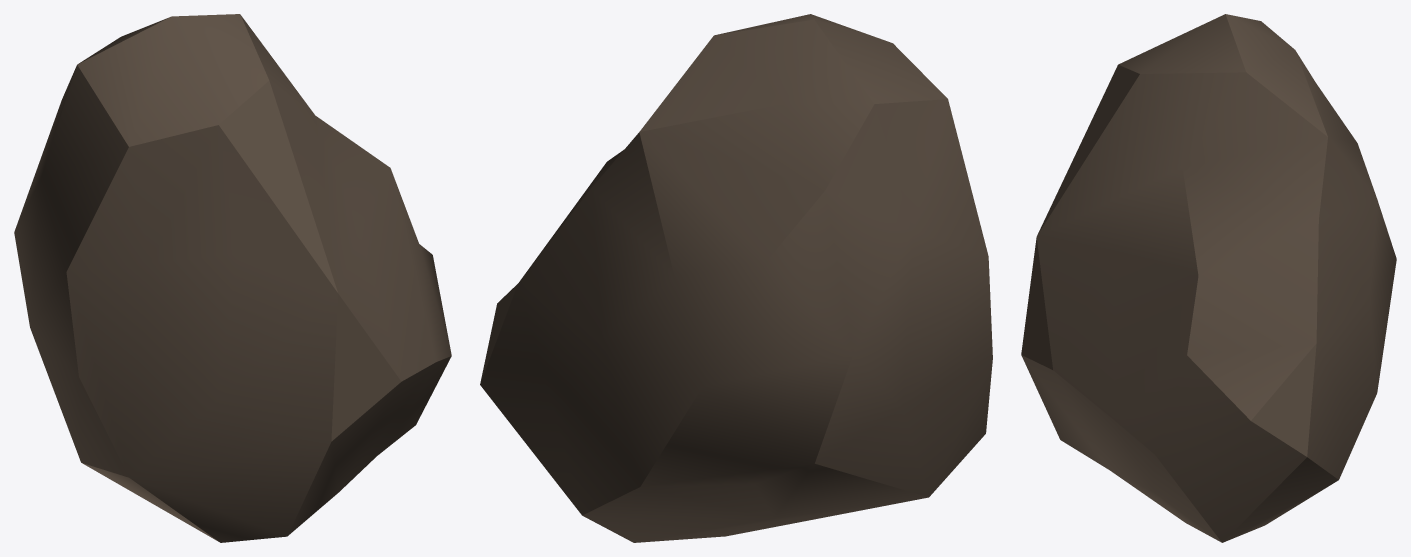
Rendered from rock_004.fbx.
3 views of the same model, side by side, from view 1: azimuth 30°, elevation 25°; view 2: azimuth 150°, elevation 25°; view 3: azimuth 270°, elevation 25° (orthographic). The views are drawn at different scales.
Visible parts, largest first — view 1: rock.004; view 2: rock.004; view 3: rock.004.
Part boxes in pixels (x1,y1,x2,y2): rock.004: (14,14,451,542); rock.004: (480,14,992,542); rock.004: (1021,14,1396,542).
Bounding box in the file's own units: 85.58 × 103 × 75.58.
